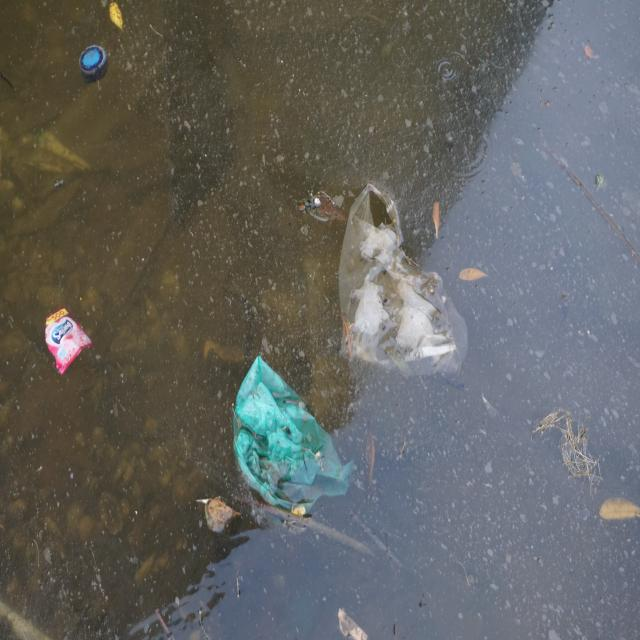Kantong Plastik: (340, 173, 475, 389), (229, 349, 355, 515)
